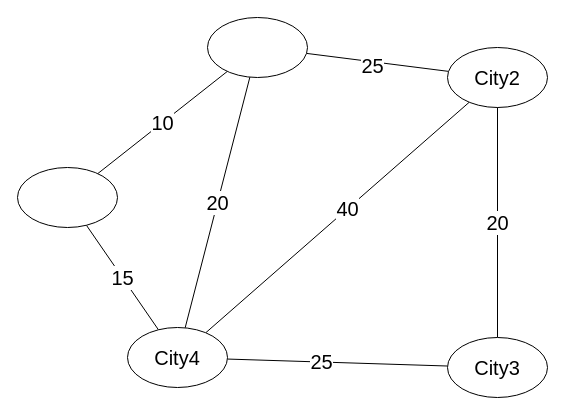
The diagram is 565 pixels wide and 415 high, and some of its shapes have lost their labels. Each missing label, with the centre of its shape:
"City1" goes at [257,47].
"City5" goes at [67,197].
